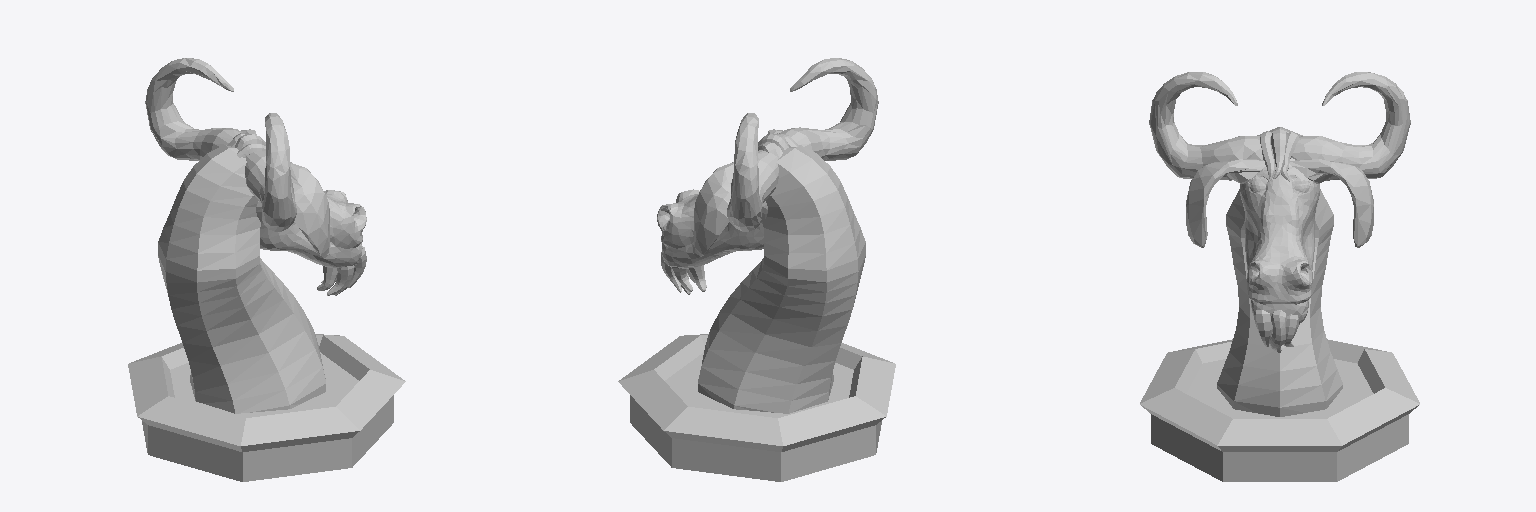
File: Tux Knight.obj
3 views of the same model, side by side, from view 1: azimuth 30°, elevation 25°; view 2: azimuth 150°, elevation 25°; view 3: azimuth 270°, elevation 25° (orthographic).
Visible parts, largest first — view 1: Circle; view 2: Circle; view 3: Circle.
Boxes of the visible parts, x1,y1,x2,y2 form: Circle: [128, 58, 405, 481]; Circle: [618, 58, 895, 481]; Circle: [1140, 72, 1419, 481].
Size of the model in its own units: 1.44 by 1.99 by 1.47.